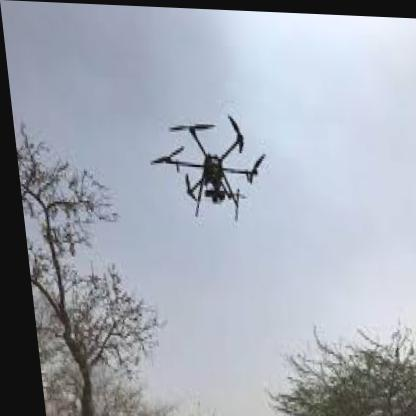UAS: (142, 109, 268, 222)
